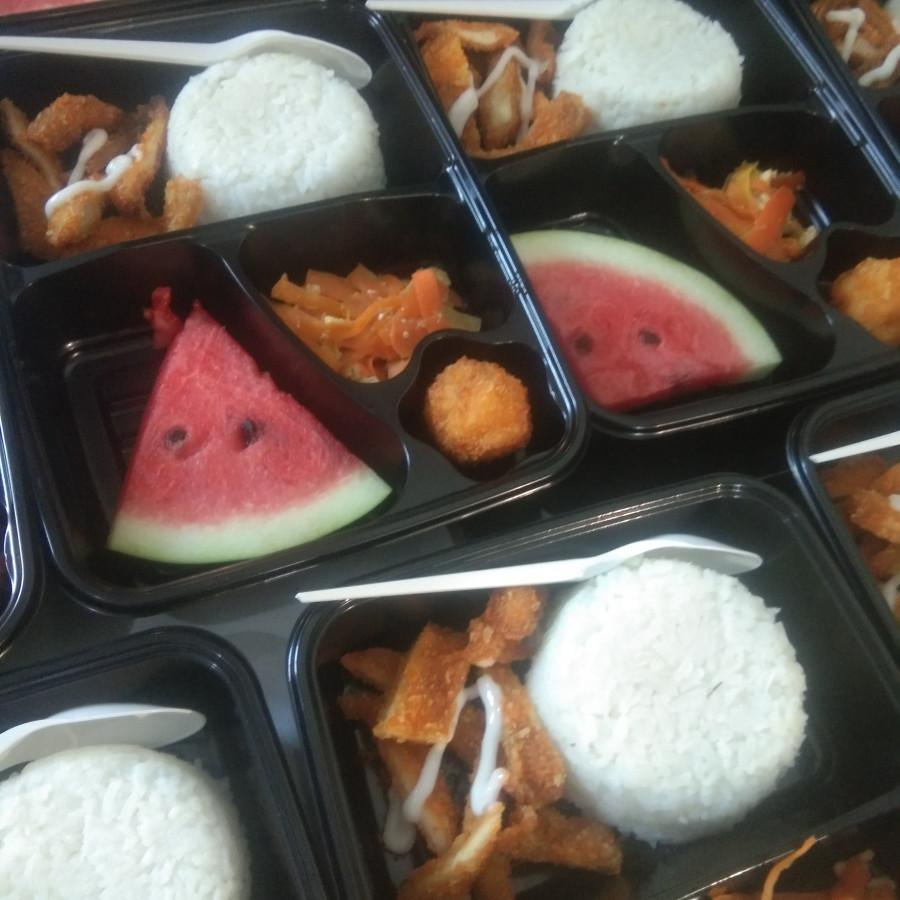buah_sayur_vitA: (170, 369, 281, 520), (578, 249, 668, 385), (297, 280, 445, 336), (710, 178, 819, 217)
daging: (360, 655, 523, 870), (18, 112, 148, 204), (444, 37, 547, 111), (444, 376, 510, 437)
makanan_berpati: (586, 599, 752, 774), (20, 783, 190, 882), (203, 90, 345, 181), (604, 9, 711, 95)
